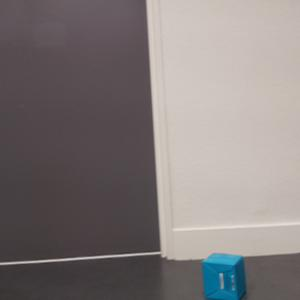small: (201, 250, 246, 300)
